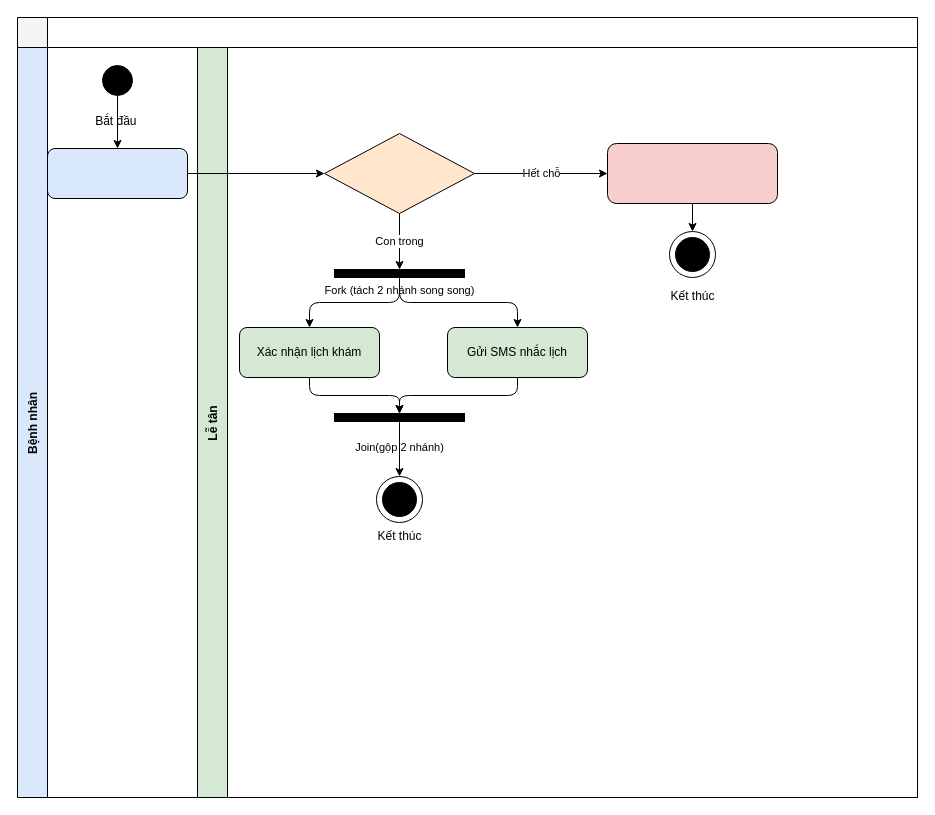
Some shapes in this 935 by 815 pixel diagram are drawn without their labels. Here are the shapes that lost their labels. From the top down, the centre of each, then its label:
At point 117,173: "Đặt lịch khám".
At point 399,173: "Kiểm tra khung giờ ?".
At point 692,173: "Báo chỗ ở khung giờ khác".
